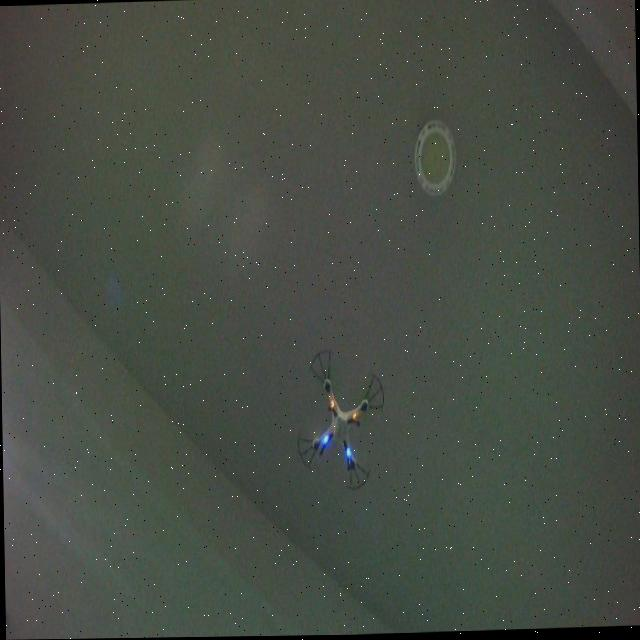drone: (293, 344, 388, 495)
